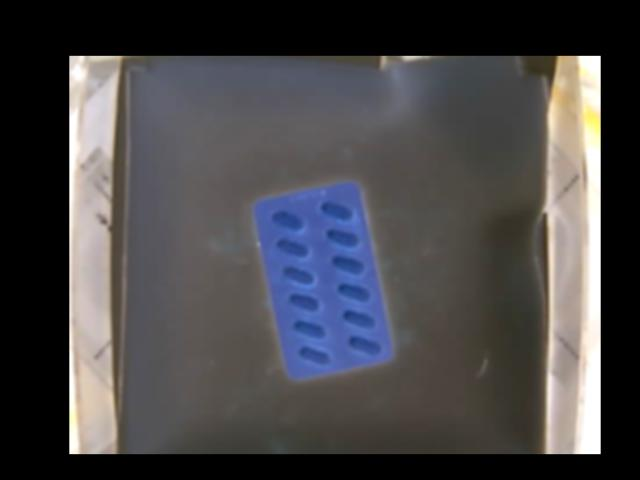Medicine: (250, 179, 394, 377)
